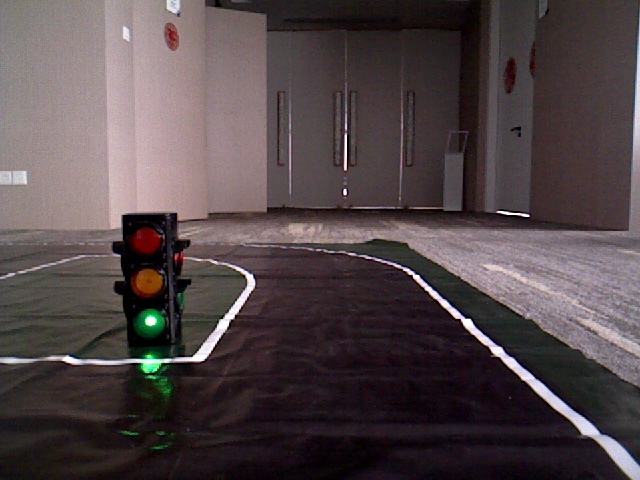green: (122, 218, 171, 339)
